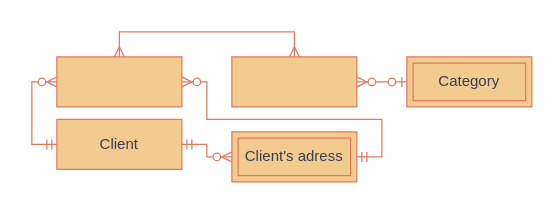
Some shapes in this 554 by 204 pixel diagram are drawn without their labels. Each missing label, with the centre of its shape:
Order: (119,81)
Product: (294,81)
